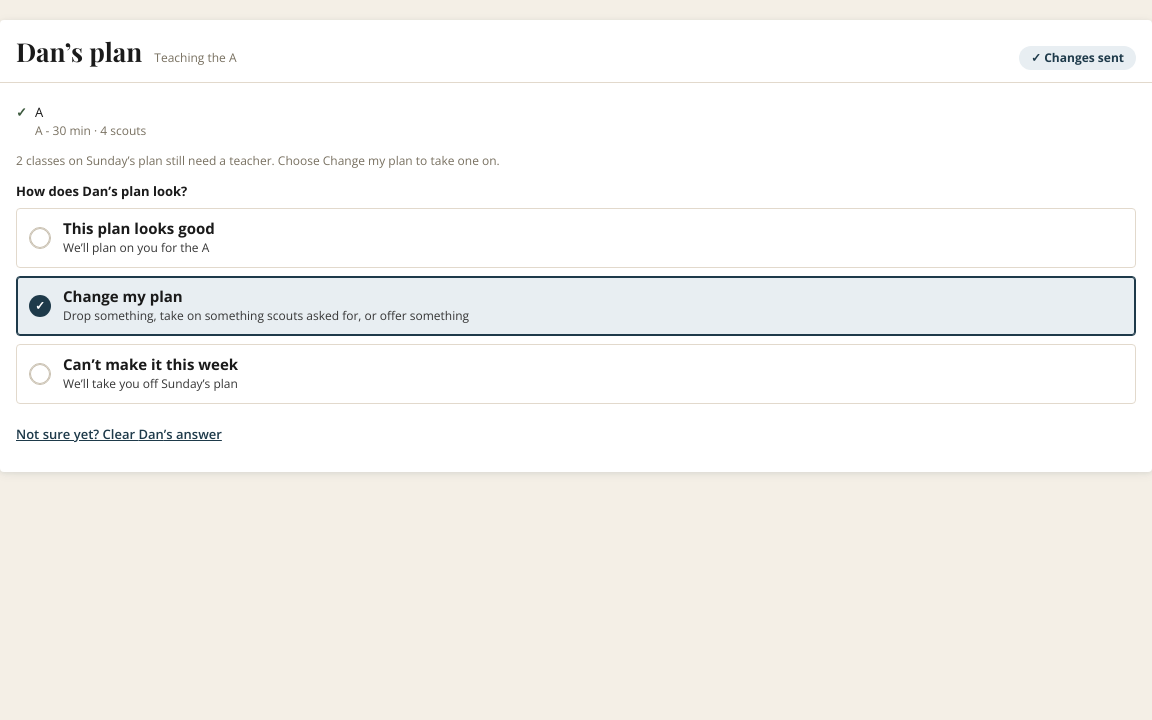
Test: the teacher card › Teacher_ClassPast60Minutes_SaysWhy
Click the radio button labelled "Change my plan". click: (123, 296)
box: x1=16 y1=276 x2=1136 y2=336
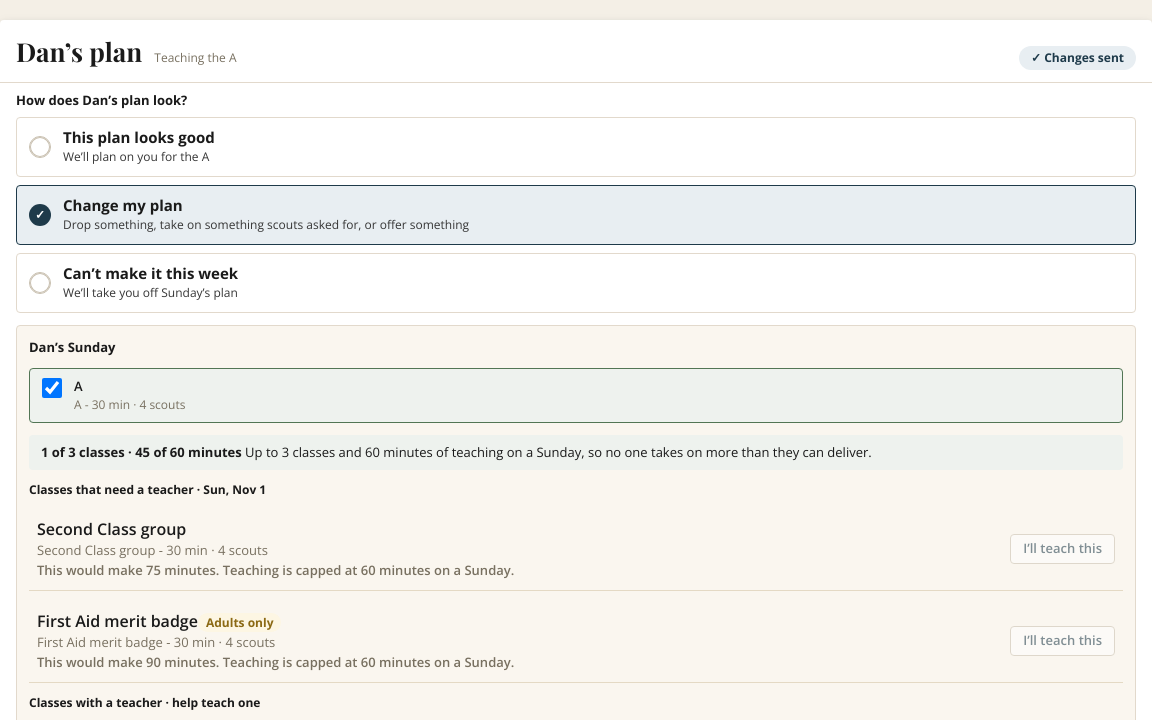
Expected: the text "This would make 75 minutes. Teaching is capped at 60 minutes on a Sunday." is shown, x1=37 y1=561 x2=514 y2=579
